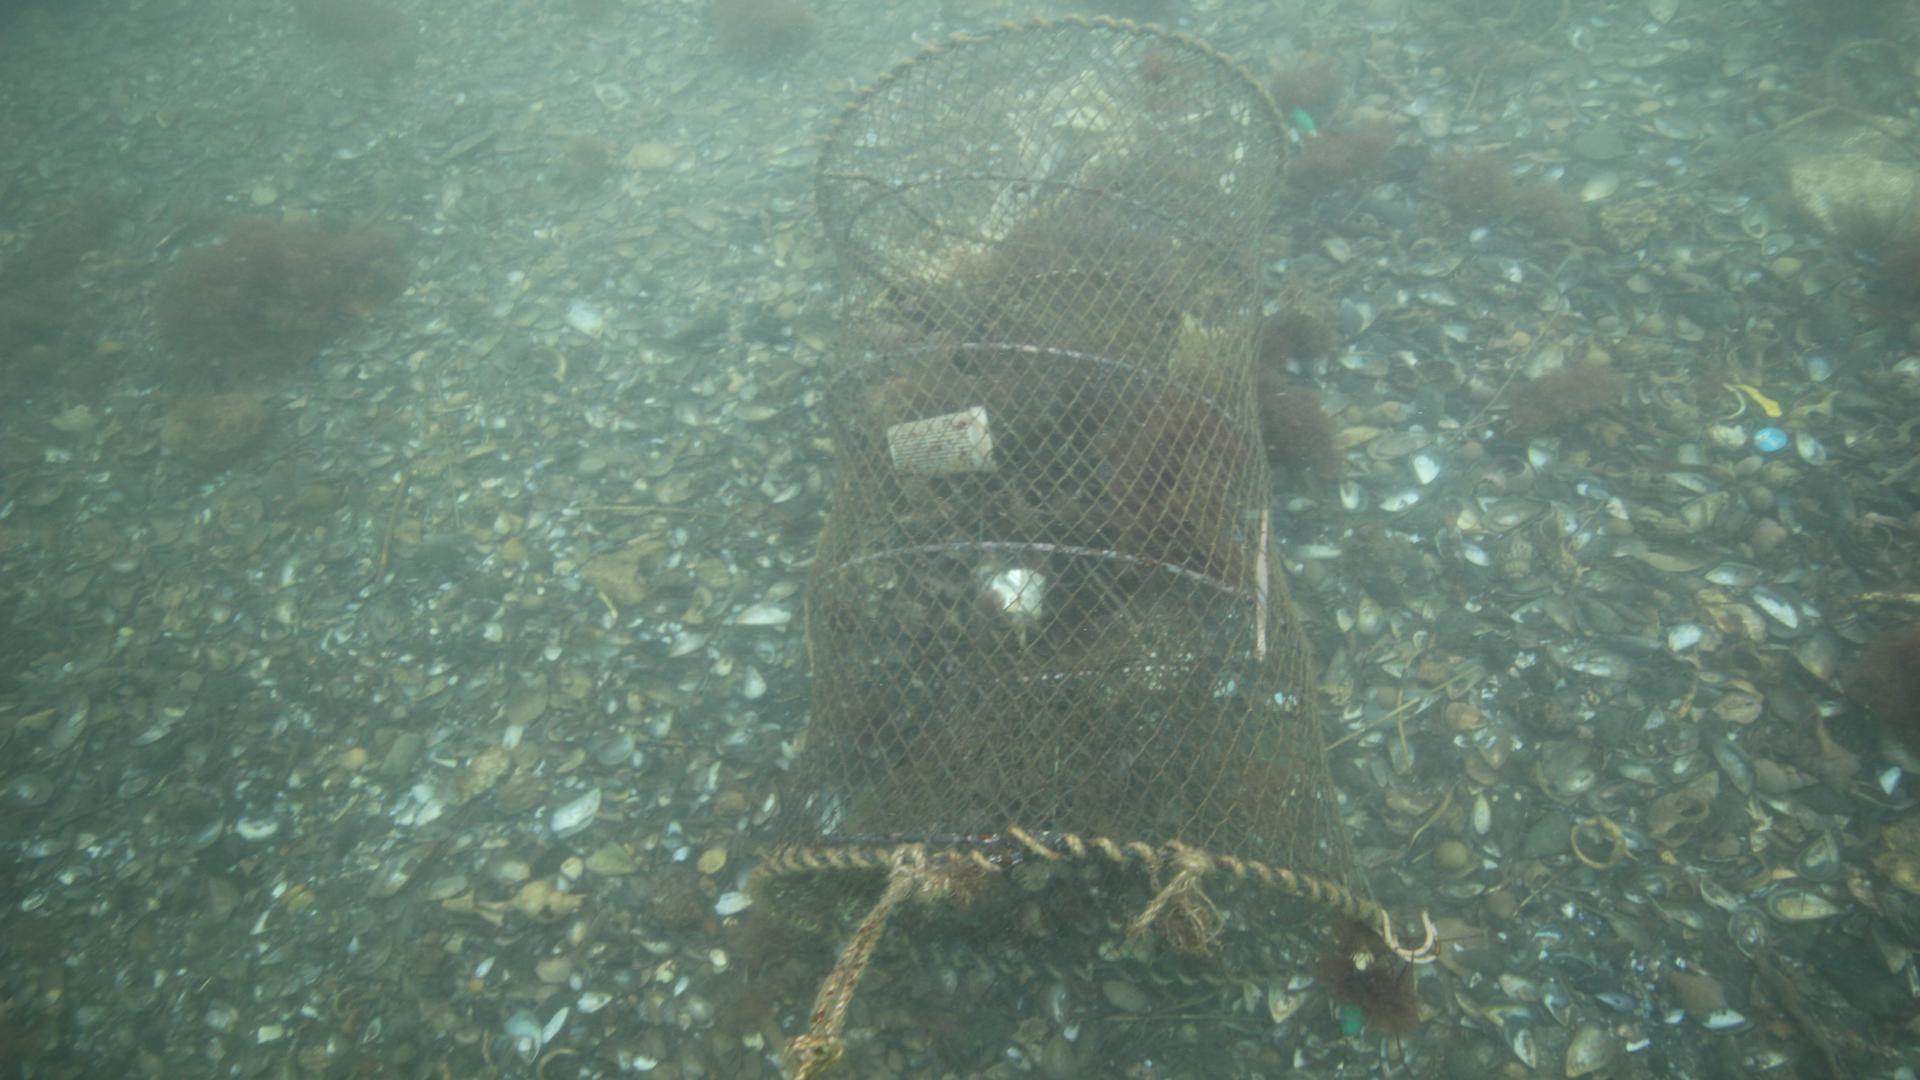bundle of ropes: (789, 844, 932, 1080)
spring fish trap: (742, 11, 1393, 985)
